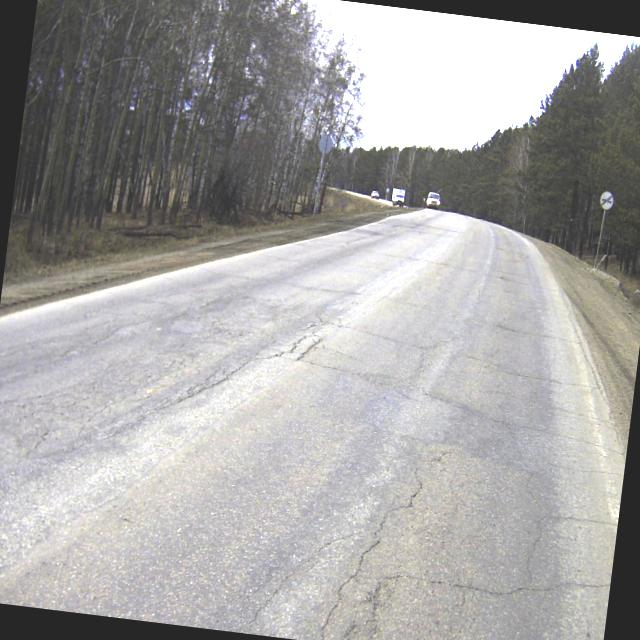road: (0, 207, 623, 640)
